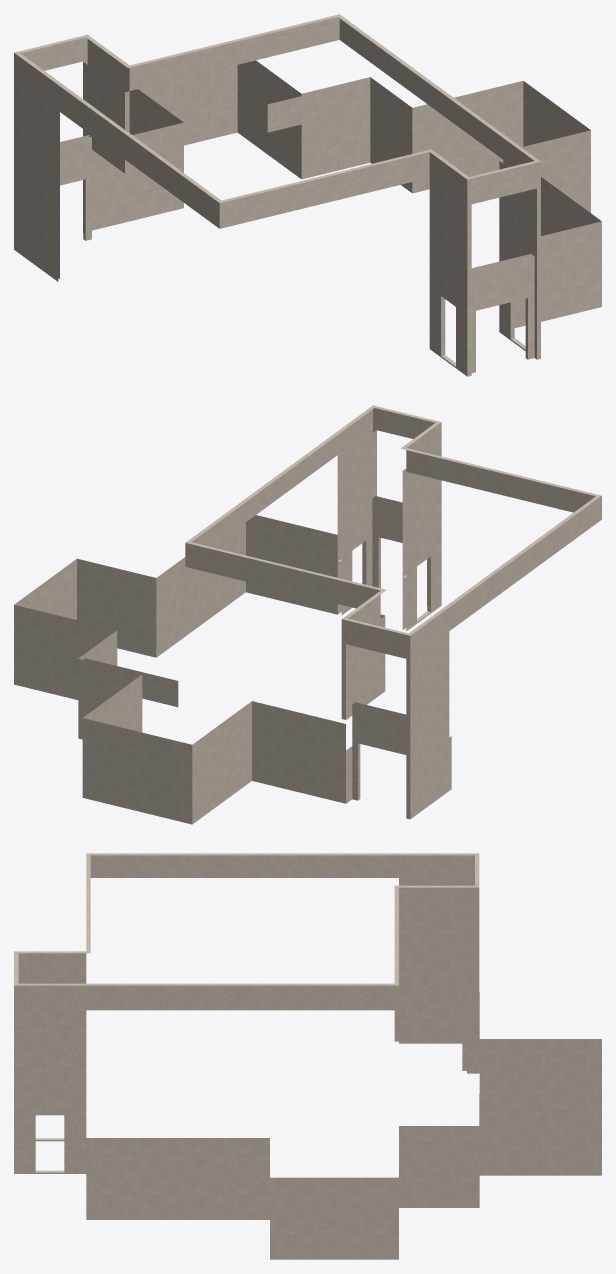
Rendered from exteriorFacade.glb.
3 renders of one model, top to bottom at view 1: azimuth 30°, elevation 25°; view 2: azimuth 150°, elevation 25°; view 3: azimuth 270°, elevation 25°, orthographic. The views are drawn at different scales.
Parts seen in each view (by area): view 1: exteriorFacade; view 2: exteriorFacade; view 3: exteriorFacade.
Boxes of the visible parts, left/top/right/bottom form: exteriorFacade: left=14, top=14, right=601, bottom=376; exteriorFacade: left=14, top=405, right=601, bottom=824; exteriorFacade: left=14, top=853, right=601, bottom=1259.
Bounding box in the file's own units: 57.1 × 23 × 65.1.
1 material, 1 textured.
